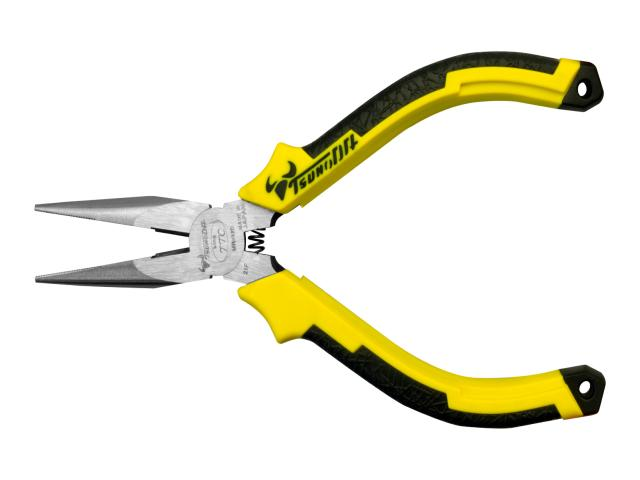Needle-nose pliers: (35, 52, 605, 428)
